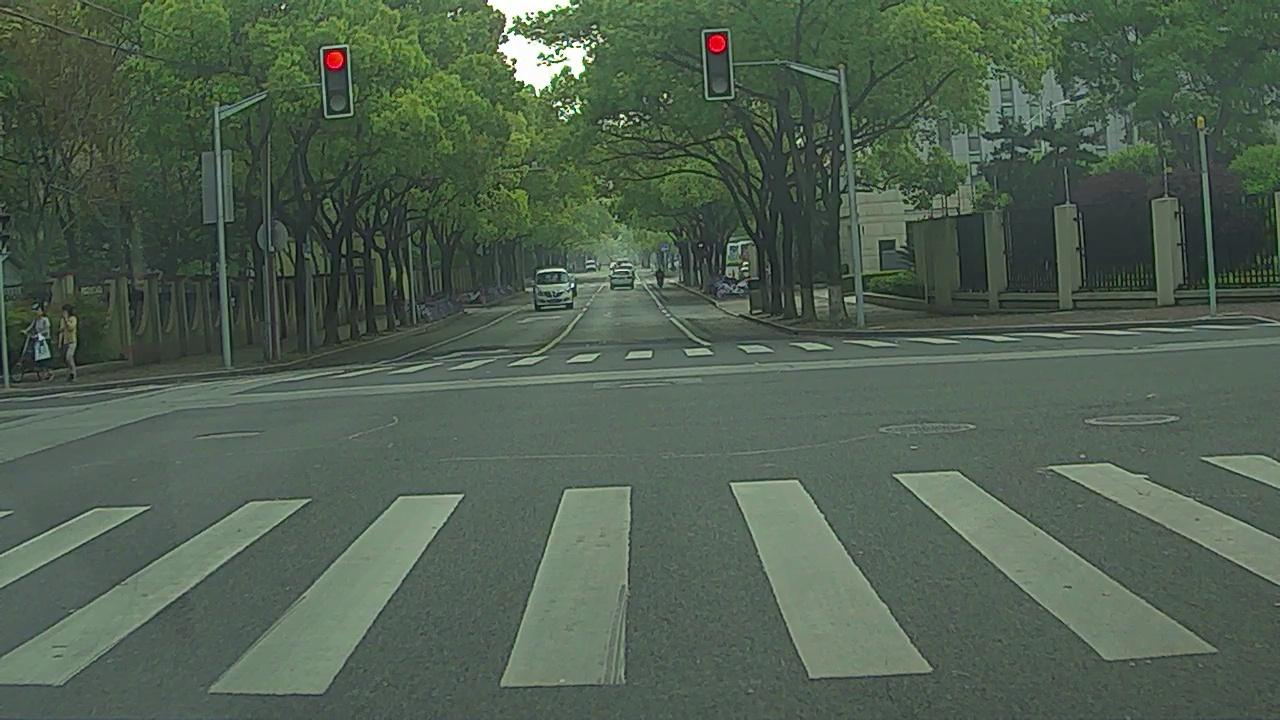traffic_light: (701, 30, 734, 98), (320, 46, 352, 115)
